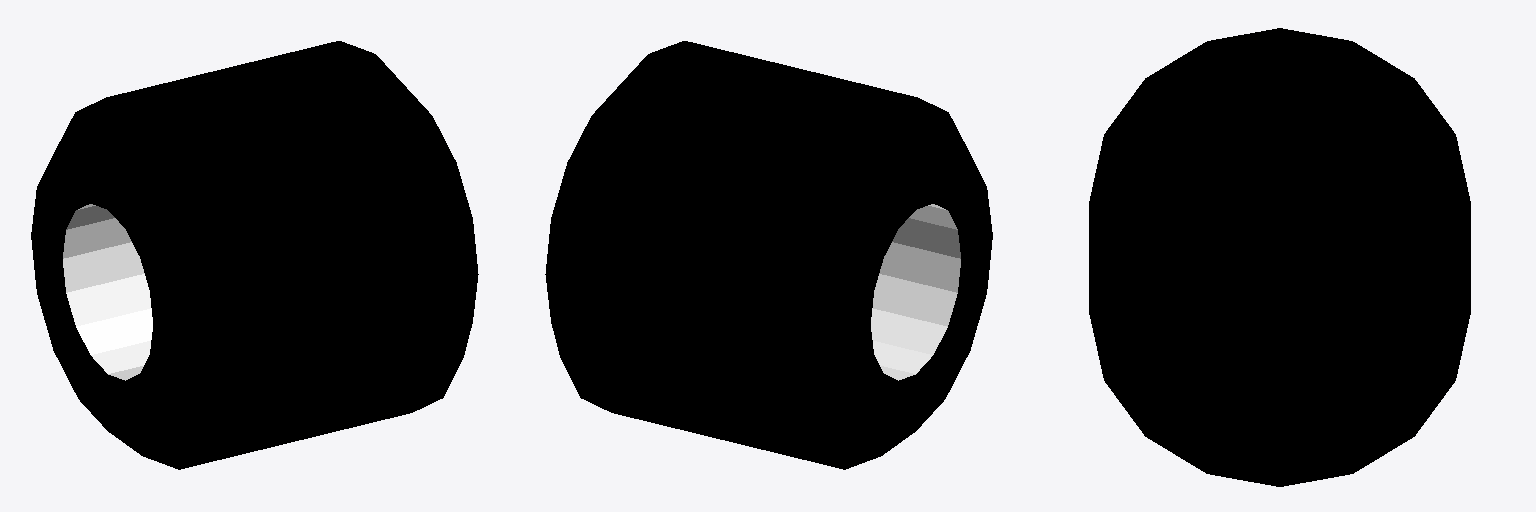
Rendered from wheel-front-left.obj.
The picture shows the model from 3 angles: view 1: azimuth 30°, elevation 25°; view 2: azimuth 150°, elevation 25°; view 3: azimuth 270°, elevation 25°; orthographic projection.
Visible parts, largest first — view 1: g0; view 2: g0; view 3: g0.
Part boxes in pixels (left/top/right/bottom): g0: left=31, top=41, right=478, bottom=469; g0: left=545, top=41, right=992, bottom=469; g0: left=1089, top=28, right=1470, bottom=486.
Size of the model in its own units: 19.74 by 22 by 22.